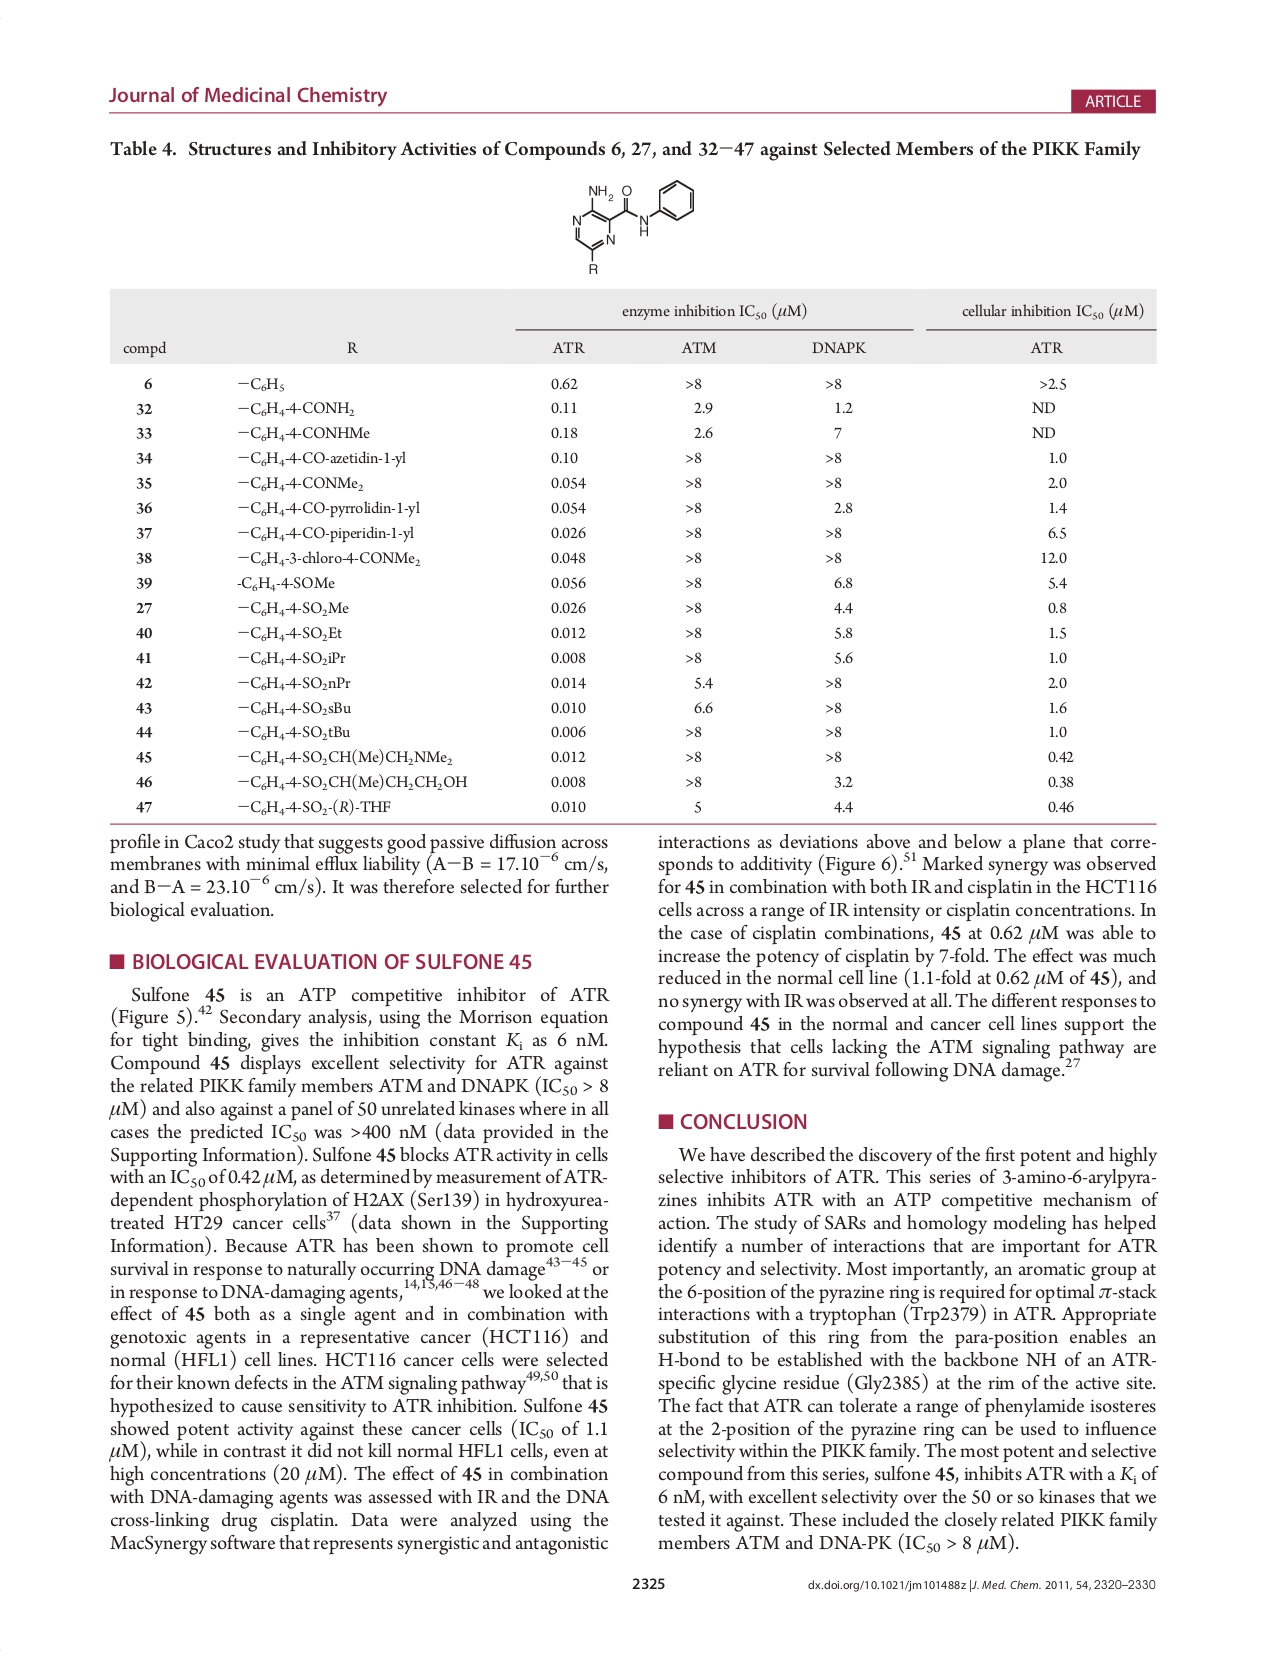exist_molecular: (567, 176, 699, 274)
